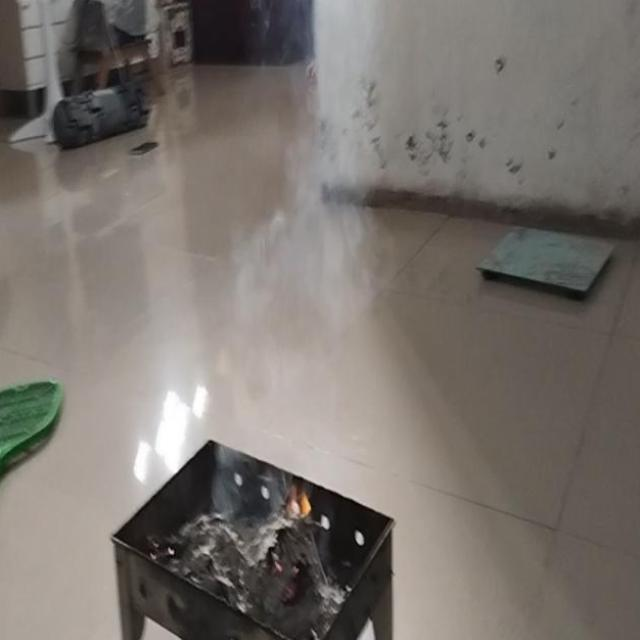fire: (236, 0, 379, 324)
